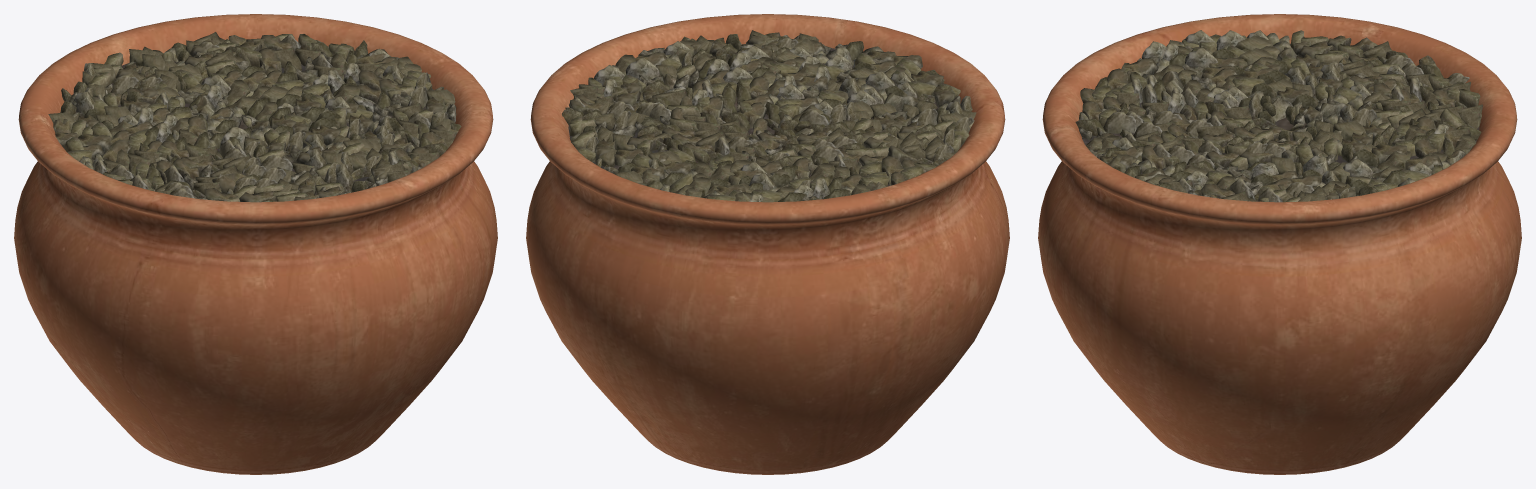
The model's file is lonac-biljka.glb.
The picture shows the model from 3 angles, left to right: view 1: azimuth 30°, elevation 25°; view 2: azimuth 150°, elevation 25°; view 3: azimuth 270°, elevation 25°; orthographic projection.
Size of the model in its own units: 0.4741 by 0.3407 by 0.4741.
1 material, 1 textured.
